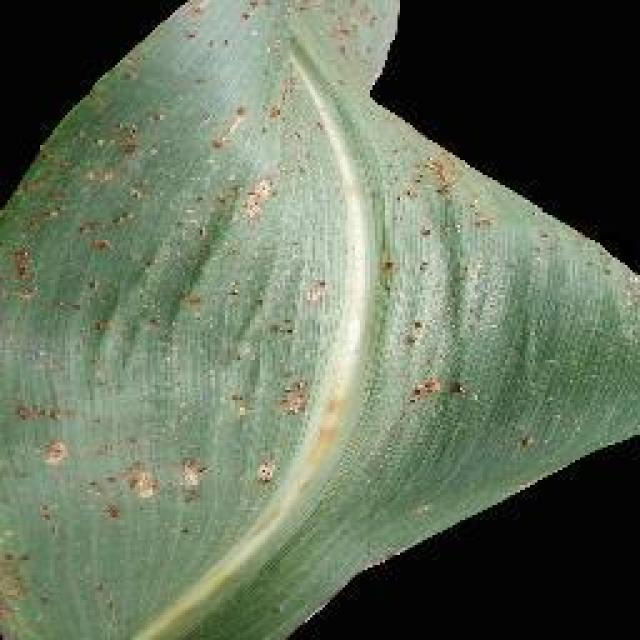Corn Common Rust: (37, 15, 608, 578)
